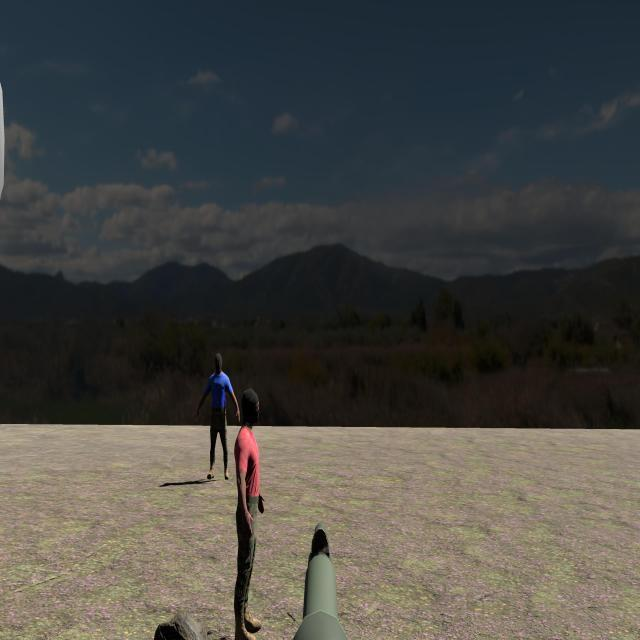Human: (234, 390, 265, 640), (195, 352, 241, 480)
